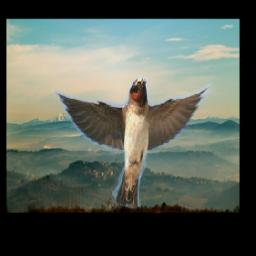Swallow: (56, 76, 213, 209)
